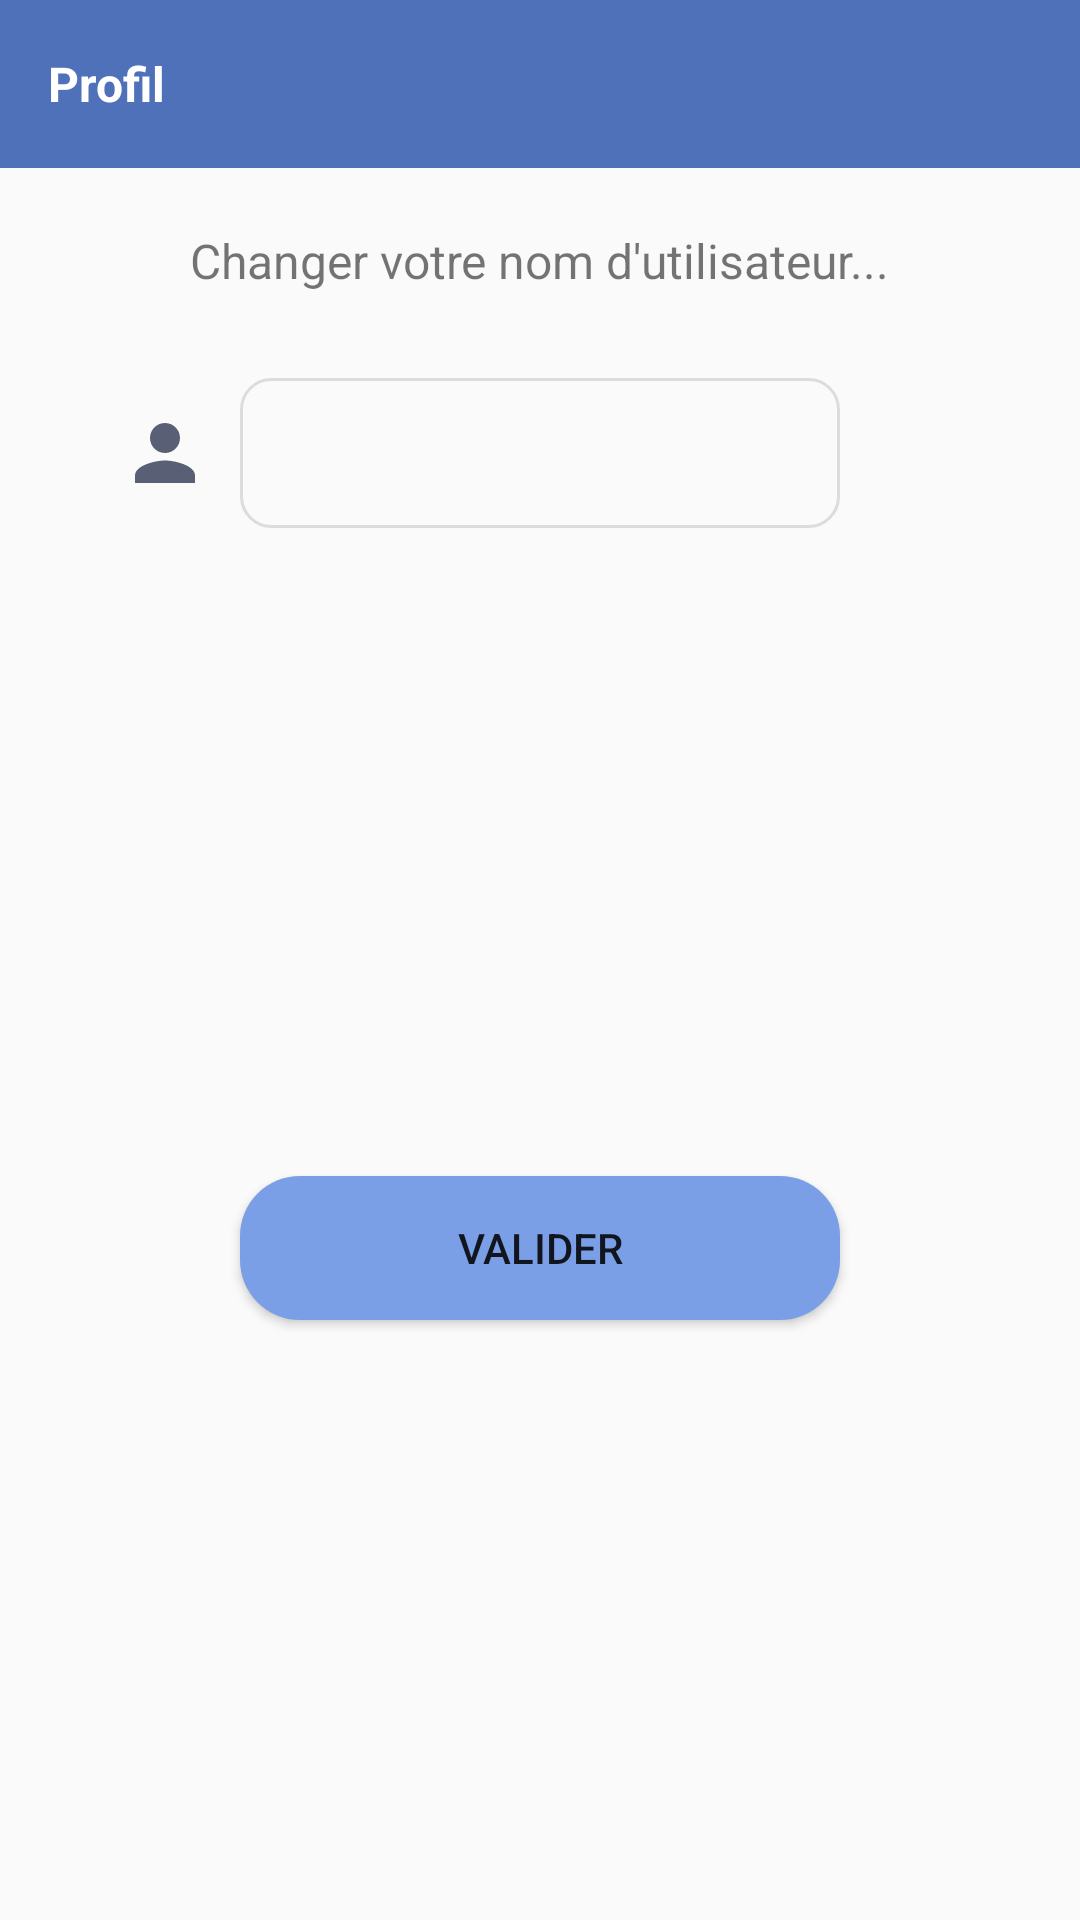

Screen size 1080×1920. Icon name, then its box in pixels as rect(x1, y1, x2, y2):
person: rect(135, 423, 195, 483)
